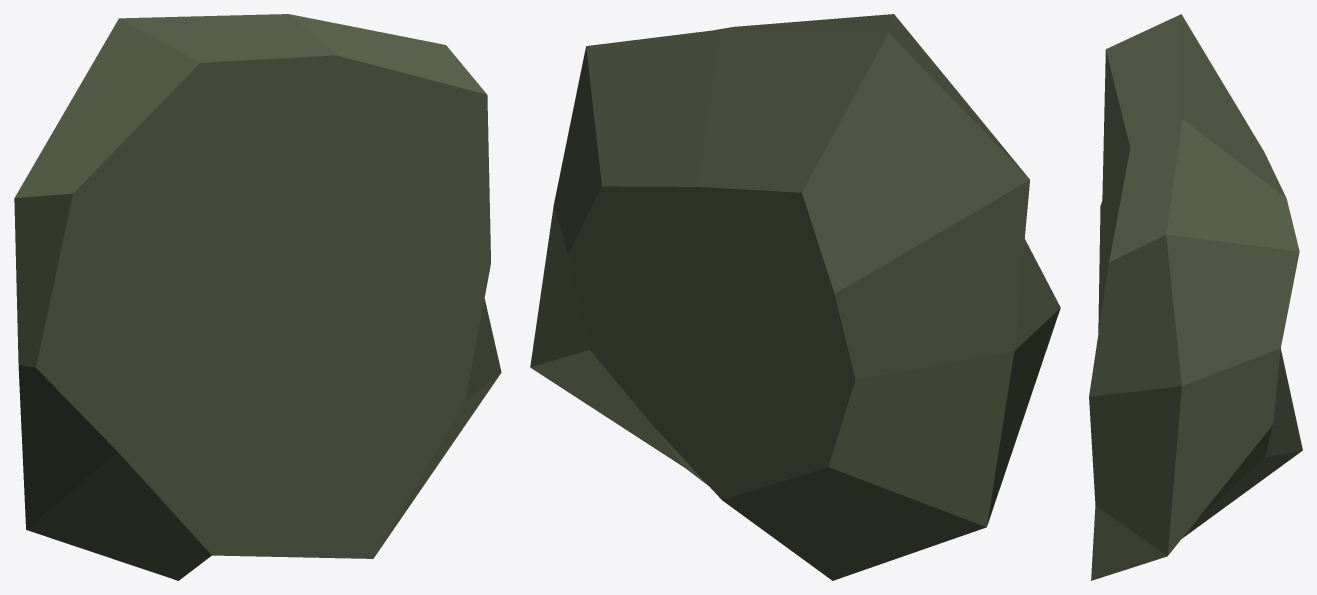
The model's file is Rock_Small.fbx.
The picture shows the model from 3 angles, left to right: view 1: azimuth 30°, elevation 25°; view 2: azimuth 150°, elevation 25°; view 3: azimuth 270°, elevation 25°; orthographic projection. The views are drawn at different scales.
Parts seen in each view (by area): view 1: Rock_Small_LOD0; view 2: Rock_Small_LOD0; view 3: Rock_Small_LOD0.
Boxes of the visible parts, x1,y1,x2,y2 form: Rock_Small_LOD0: (14, 14, 501, 580); Rock_Small_LOD0: (530, 14, 1060, 580); Rock_Small_LOD0: (1089, 14, 1302, 580).
Size of what is drawn, in the model's own units: 148 by 162 by 62.53.
